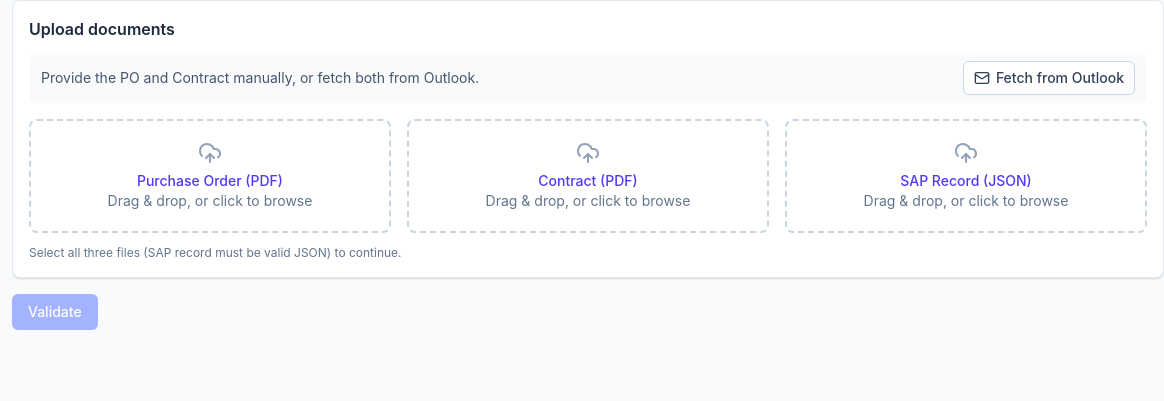
it: UploadForm › shows an error banner when Fetch from Outlook fails
The image size is (1164, 401).
Click the button "Fetch from Outlook" at [1049, 78], box [963,61,1135,95]
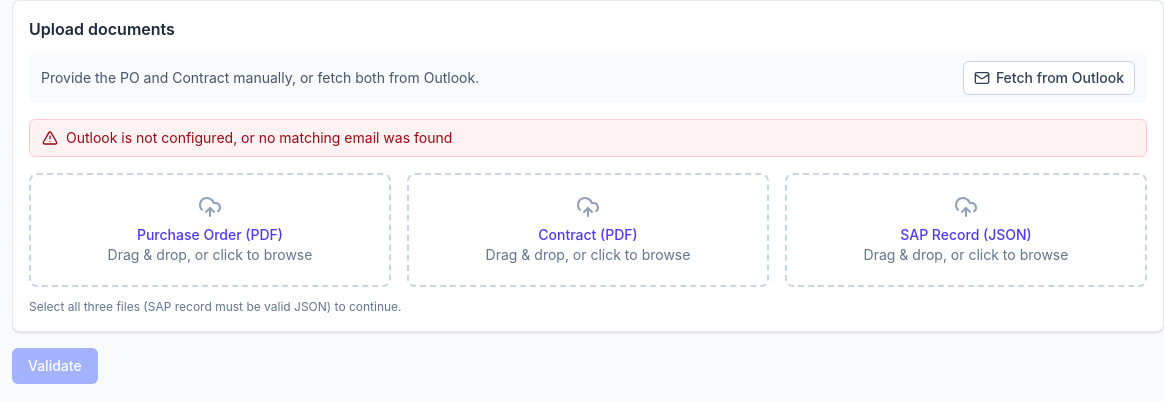
Check: the text "Outlook is not configured, or no matching email was found" is shown, box [66,128,452,148]
